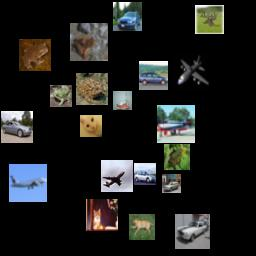airplane: (172, 53, 210, 91), (9, 164, 47, 202), (157, 105, 195, 143), (101, 160, 133, 192)
automobile: (175, 214, 210, 249), (1, 111, 33, 143), (113, 2, 142, 31), (139, 61, 168, 90), (134, 163, 156, 185), (162, 174, 181, 193)
cat: (86, 199, 118, 231), (80, 115, 102, 137)
deer: (195, 5, 224, 34)
dog: (129, 214, 155, 240)
frog: (70, 23, 108, 61), (19, 39, 51, 71), (76, 73, 108, 105), (164, 144, 190, 170), (50, 85, 72, 107)
ship: (113, 91, 132, 110)
